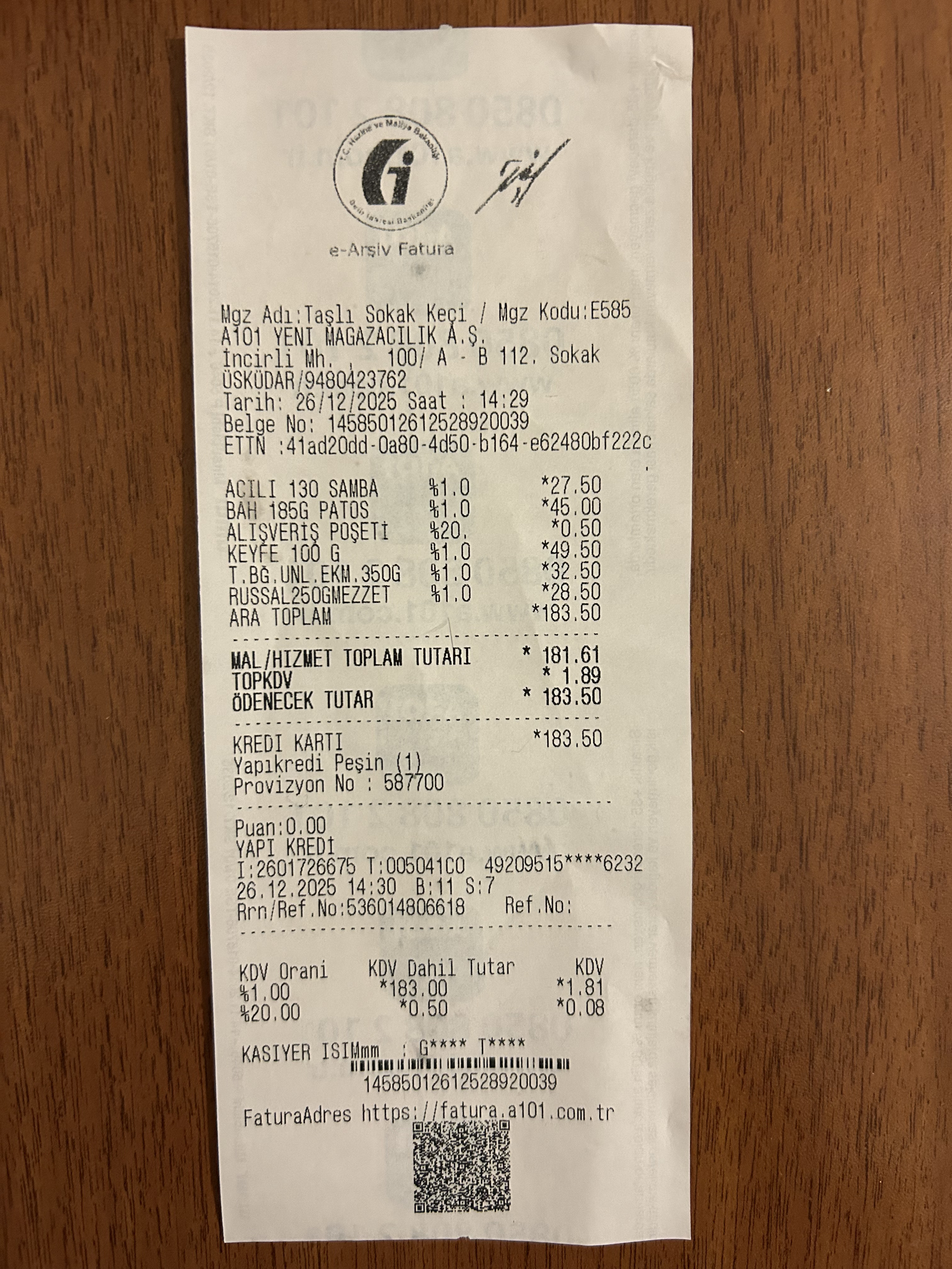date: (290, 388, 400, 413)
price: (535, 684, 611, 712)
workplace: (216, 288, 634, 372)
